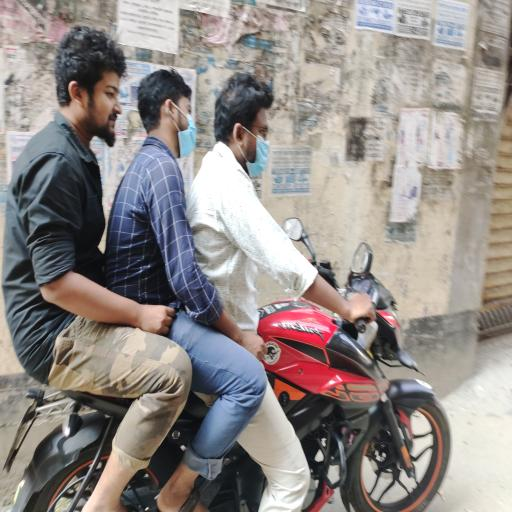helmet: (164, 99, 198, 160)
overloading: (3, 232, 453, 510)
